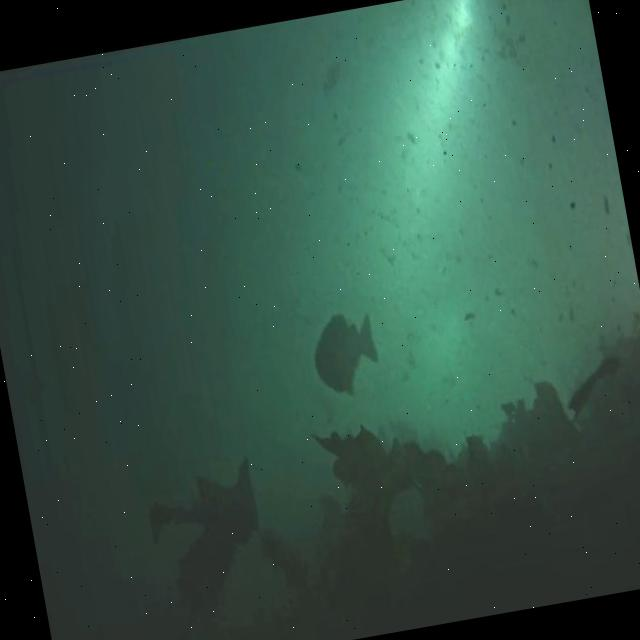fish: (306, 308, 382, 396)
